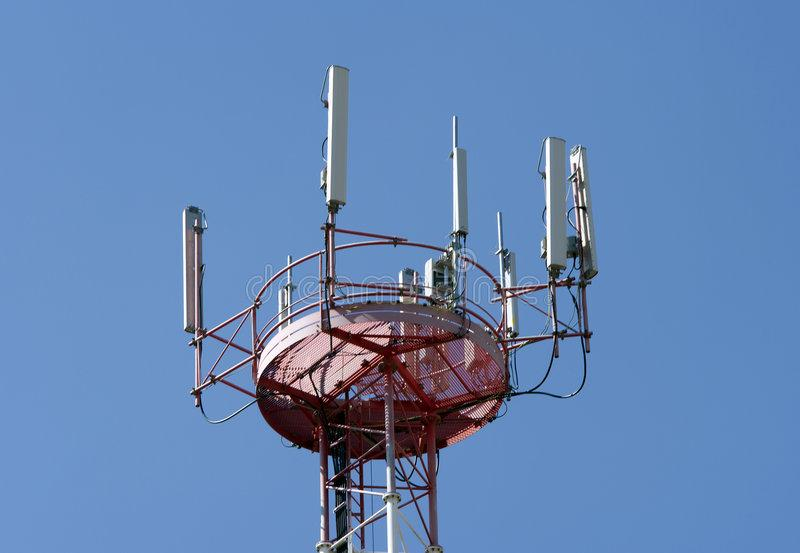antenna: (542, 129, 576, 280), (322, 58, 355, 212), (182, 208, 213, 345), (444, 136, 474, 235)
